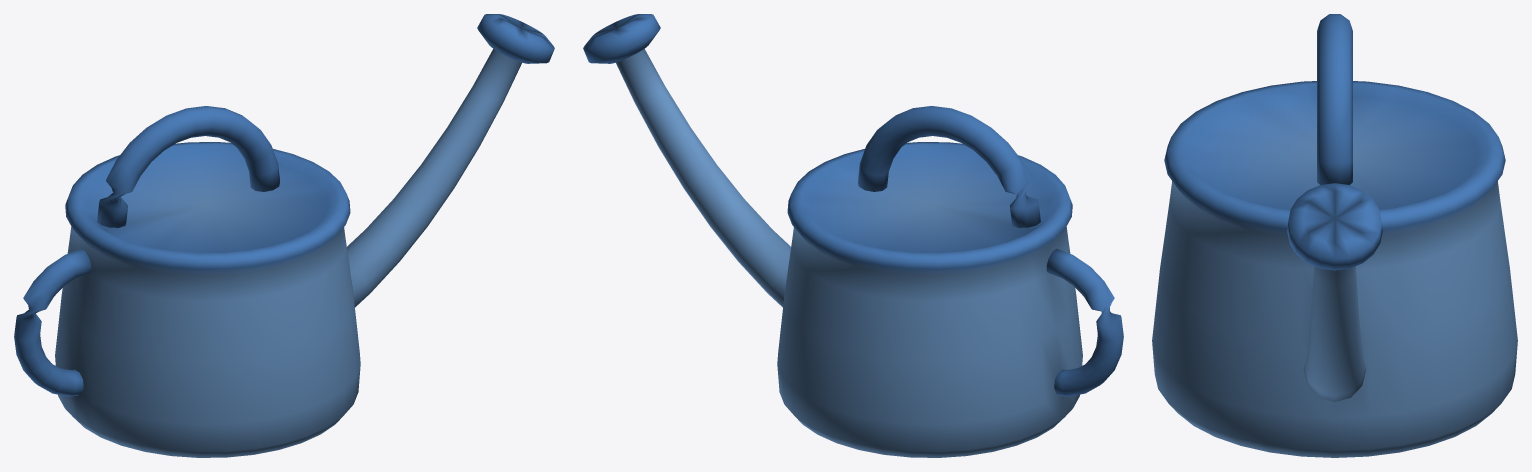
Rendered from can.glb.
3 views of the same model, side by side, from view 1: azimuth 30°, elevation 25°; view 2: azimuth 150°, elevation 25°; view 3: azimuth 270°, elevation 25° (orthographic). The views are drawn at different scales.
Visible parts, largest first — view 1: can; view 2: can; view 3: can.
Part boxes in pixels (x1=…): can: x1=14, y1=14, x2=554, y2=457; can: x1=583, y1=14, x2=1123, y2=457; can: x1=1152, y1=14, x2=1517, y2=457.
Bounding box in the file's own units: 1.39 × 0.7701 × 0.69.
